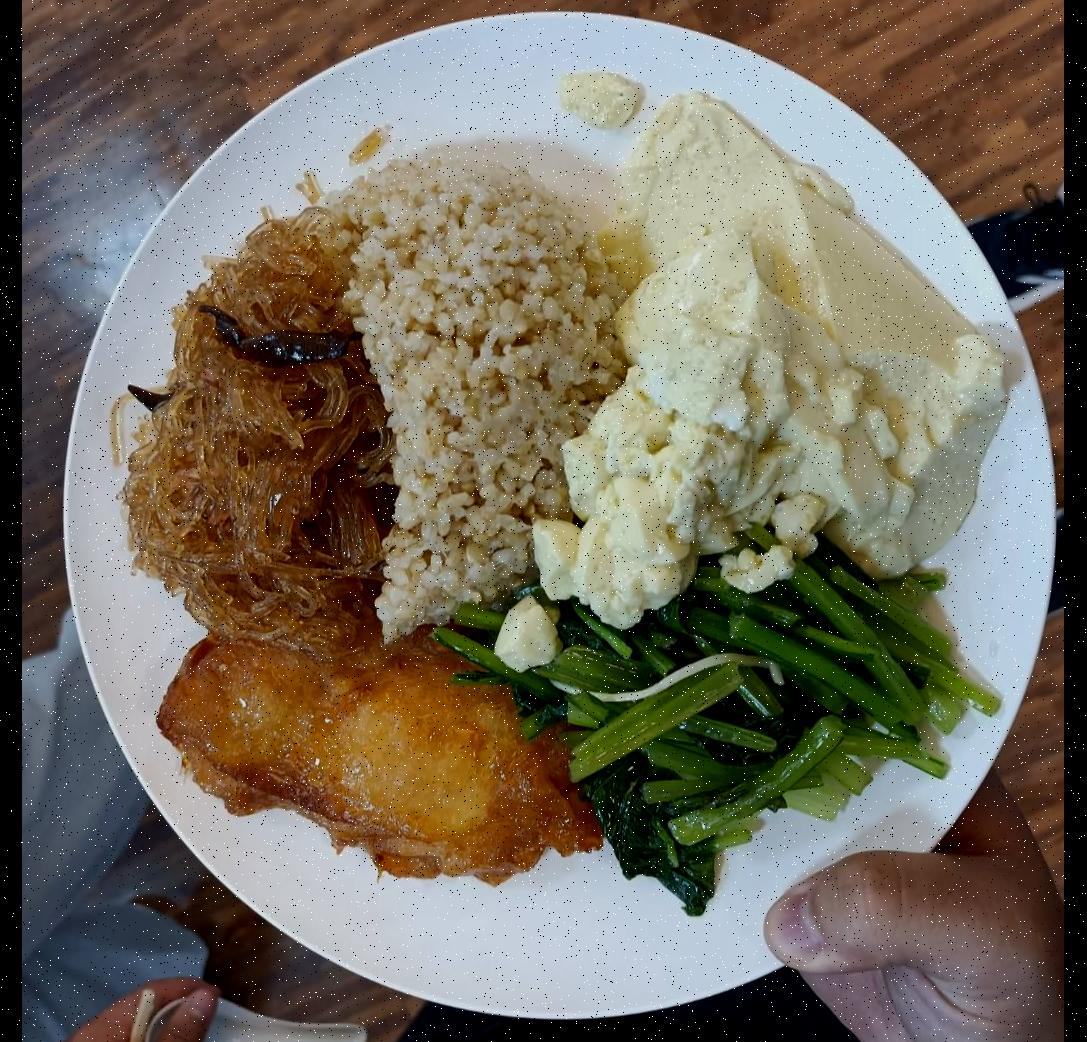brown rice: (350, 134, 626, 652)
grilled chicken leg steak: (155, 628, 596, 892)
plate: (51, 10, 1042, 1038)
side dish: (536, 73, 1010, 622), (466, 550, 988, 916), (120, 205, 380, 632)
